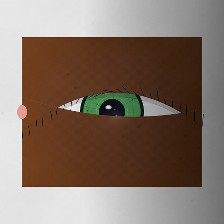hemorrhage_spot: (75, 89, 162, 159)
